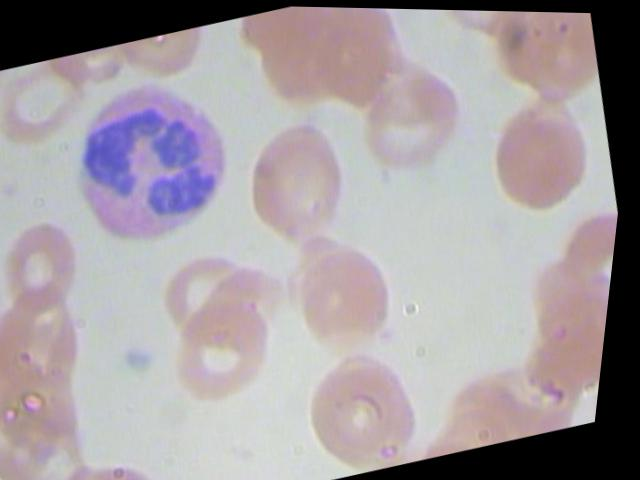Platelets: (117, 329, 171, 386)
Red Blood Cells: (464, 81, 628, 227), (284, 340, 450, 479), (226, 105, 375, 250), (331, 50, 480, 195), (275, 225, 424, 370), (161, 277, 302, 415), (274, 5, 433, 117), (0, 272, 114, 407), (510, 283, 615, 410), (183, 252, 305, 357), (147, 234, 269, 339), (0, 204, 107, 319), (0, 51, 103, 152), (545, 196, 623, 294), (428, 8, 547, 48), (70, 445, 200, 479)
White Blood Cells: (32, 50, 270, 265)
